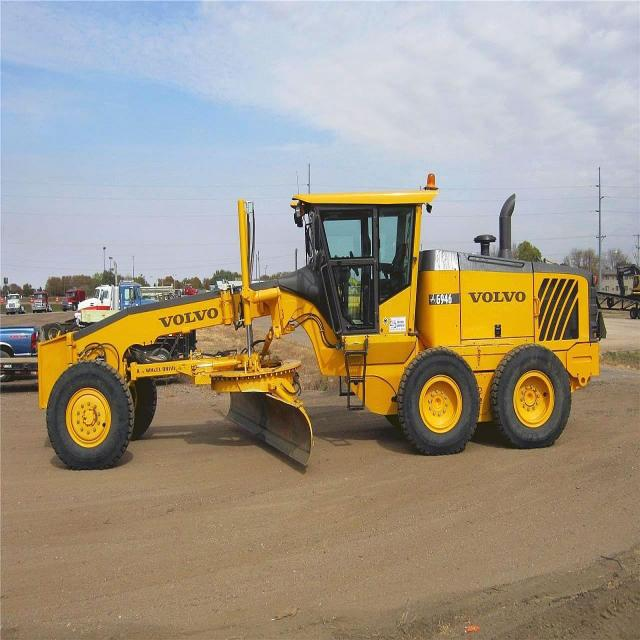Grader: (32, 181, 604, 486)
